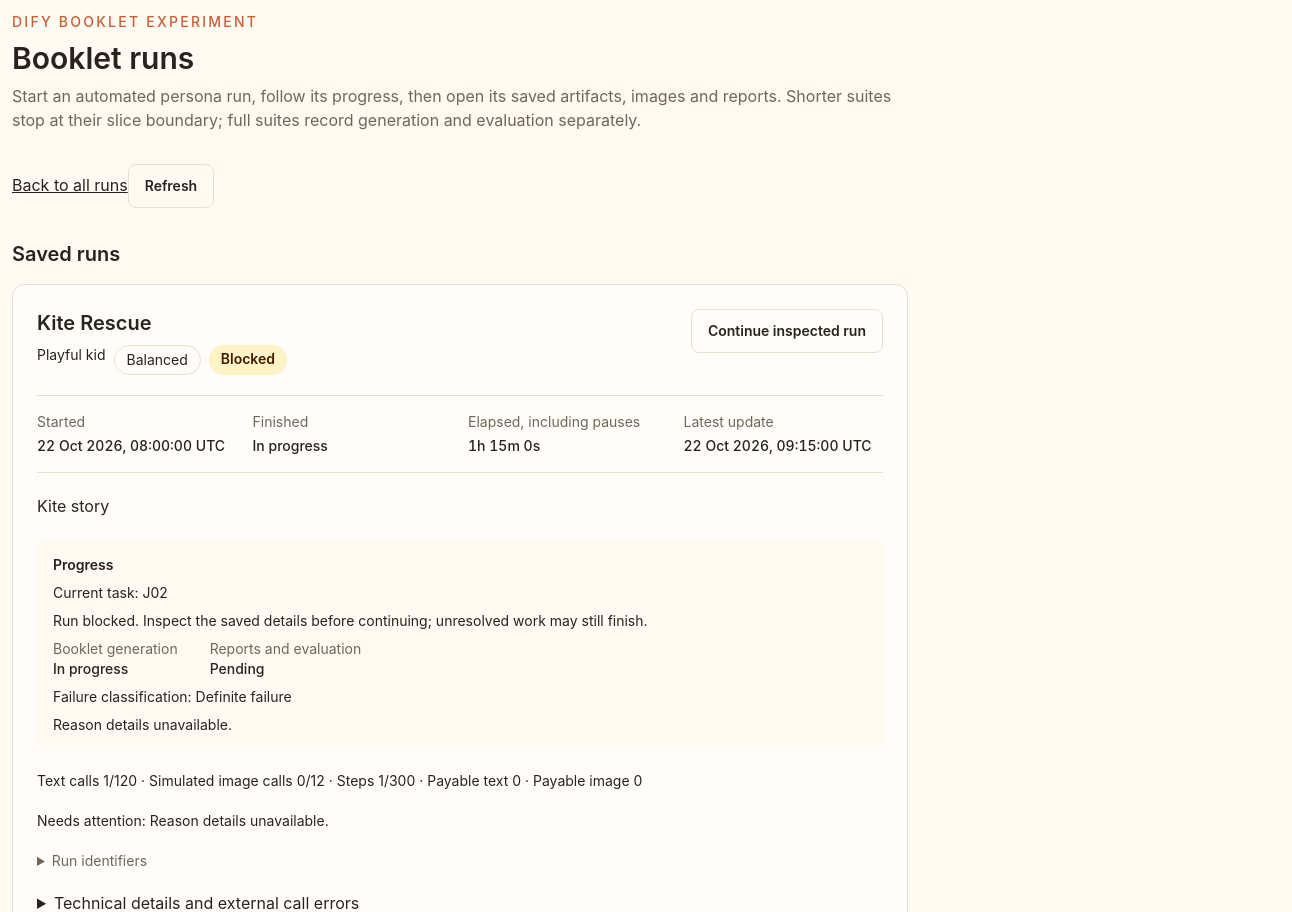
Test: booklet runner inspector › retries an explicit conflict only while the exact retained-decision control remains available (false)
The image size is (1292, 912).
What coordinates should you click on to do the following:
click the button "Continue inspected run"
I would click on:
 (787, 331)
Its box is top-left (691, 309), bottom-right (883, 353).
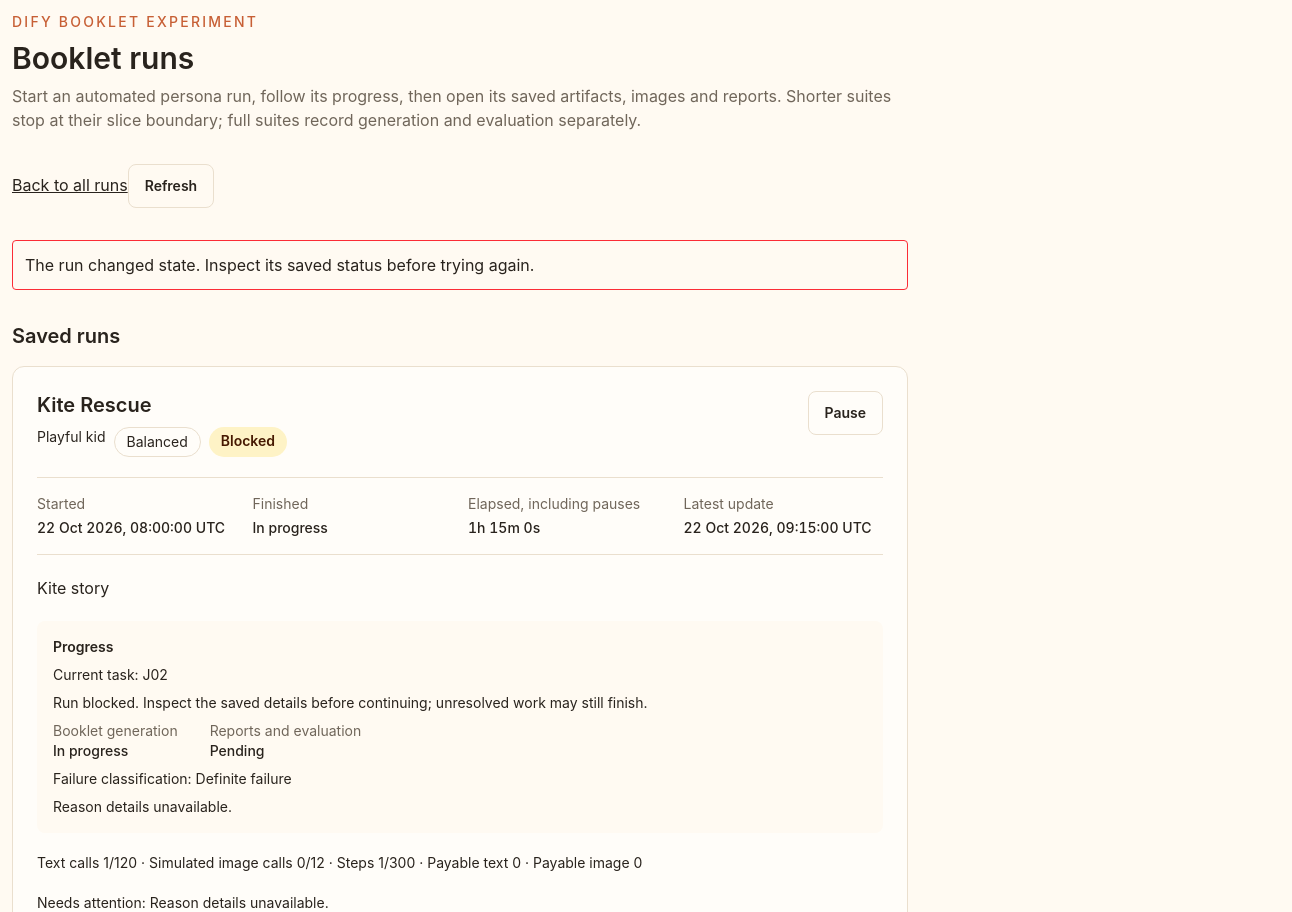
Expected: the message "The run changed state. Inspect its saved status before trying again." is shown, top-left (12, 240), bottom-right (908, 290)
